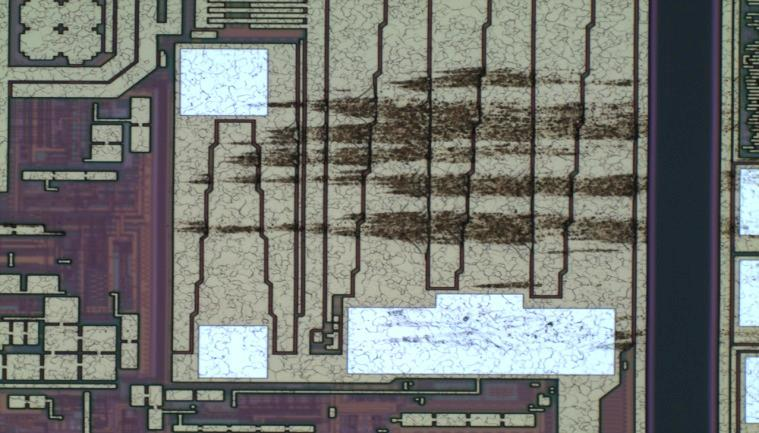SCRATCH: (162, 61, 759, 368)
